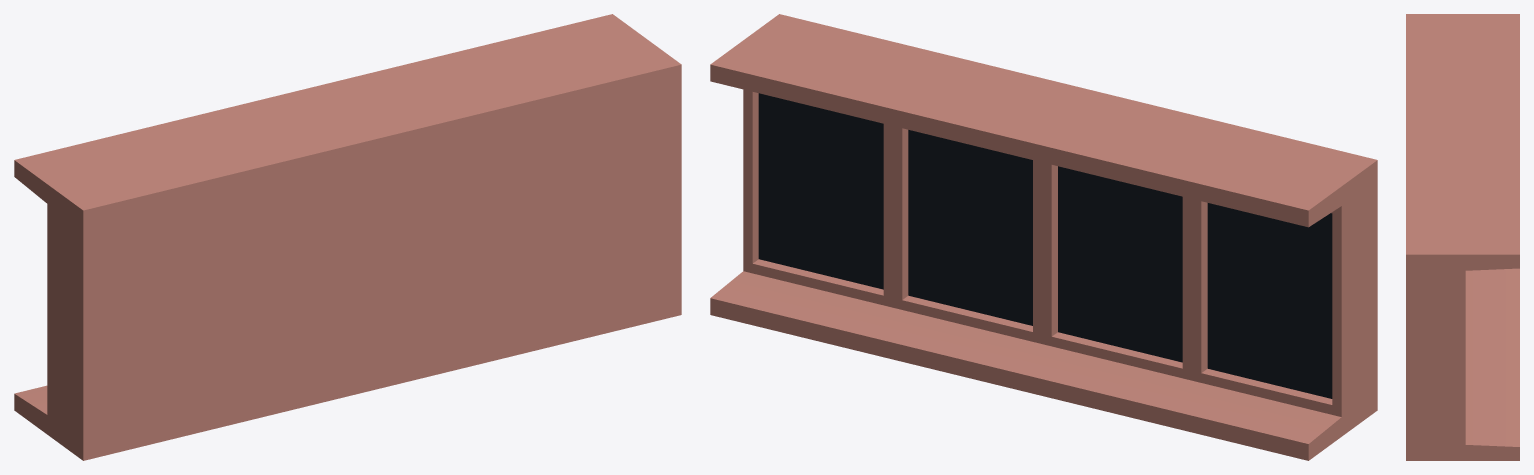
File: BasicWallGlass_5x2.fbx
The picture shows the model from 3 angles, left to right: view 1: azimuth 30°, elevation 25°; view 2: azimuth 150°, elevation 25°; view 3: azimuth 270°, elevation 25°; orthographic projection. The views are drawn at different scales.
Parts seen in each view (by area): view 1: BasicWall1Glassx5.032; view 2: BasicWall1Glassx5.032; view 3: BasicWall1Glassx5.032.
Boxes of the visible parts, <box> form: BasicWall1Glassx5.032: <box>14,14,681,460</box>; BasicWall1Glassx5.032: <box>710,14,1377,460</box>; BasicWall1Glassx5.032: <box>1406,14,1519,460</box>.
Bounding box in the file's own units: 500 × 200 × 100.
